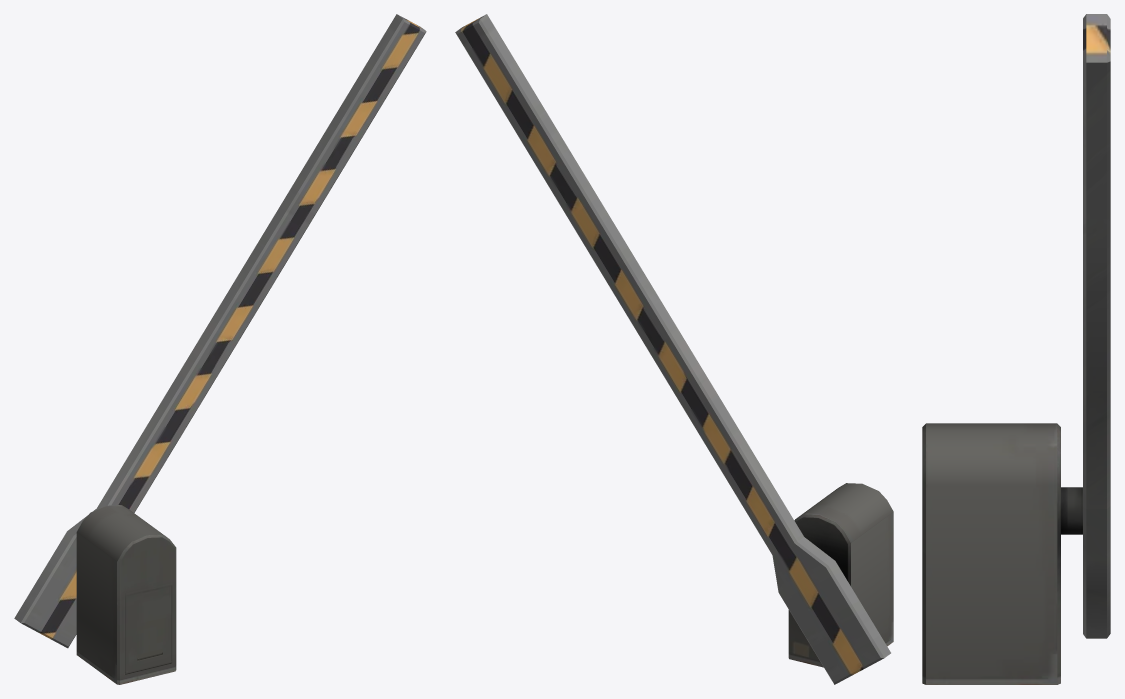
3 views of the same model, side by side, from view 1: azimuth 30°, elevation 25°; view 2: azimuth 150°, elevation 25°; view 3: azimuth 270°, elevation 25° (orthographic). The views are drawn at different scales.
Parts seen in each view (by area): view 1: body0_model0_lod0_mesh0; view 2: body0_model0_lod0_mesh0; view 3: body0_model0_lod0_mesh0.
Boxes of the visible parts, left/top/right/bottom form: body0_model0_lod0_mesh0: left=14, top=14, right=426, bottom=684; body0_model0_lod0_mesh0: left=455, top=14, right=893, bottom=684; body0_model0_lod0_mesh0: left=922, top=14, right=1110, bottom=684.
Bounding box in the file's own units: 13.75 × 17.73 × 3.4.
Materials: 1 (1 with a texture image).
